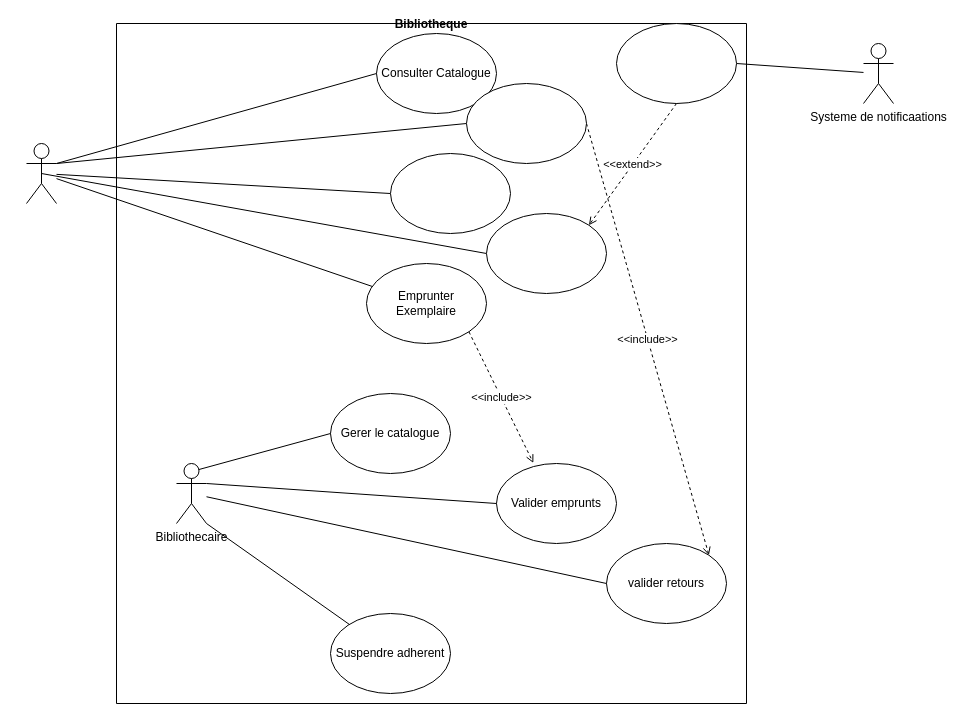
Some shapes in this 964 by 721 pixel diagram are drawn without their labels. The box of each missing label's shape, as (x1, y1, x2, y2) in pixels:
Adherent: (26, 142, 56, 204)
Envoyer notification: (616, 22, 736, 104)
Rechercher Livre: (390, 152, 510, 234)
Reserver Livre: (486, 212, 606, 294)
Retourner examplaire: (466, 82, 586, 164)
